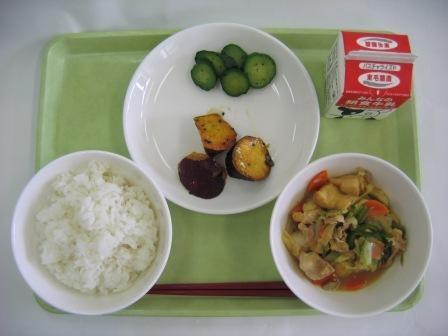Milk: (314, 24, 425, 131)
Rice: (5, 146, 169, 308)
Salad: (178, 35, 277, 105)
cooked eggplant: (163, 105, 286, 205)
vegetable based cooked food: (275, 157, 432, 304)
